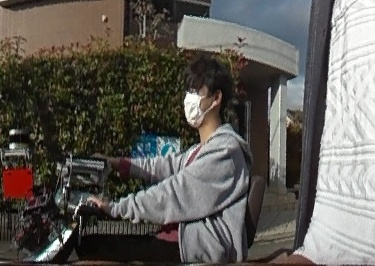person: (84, 59, 249, 266)
